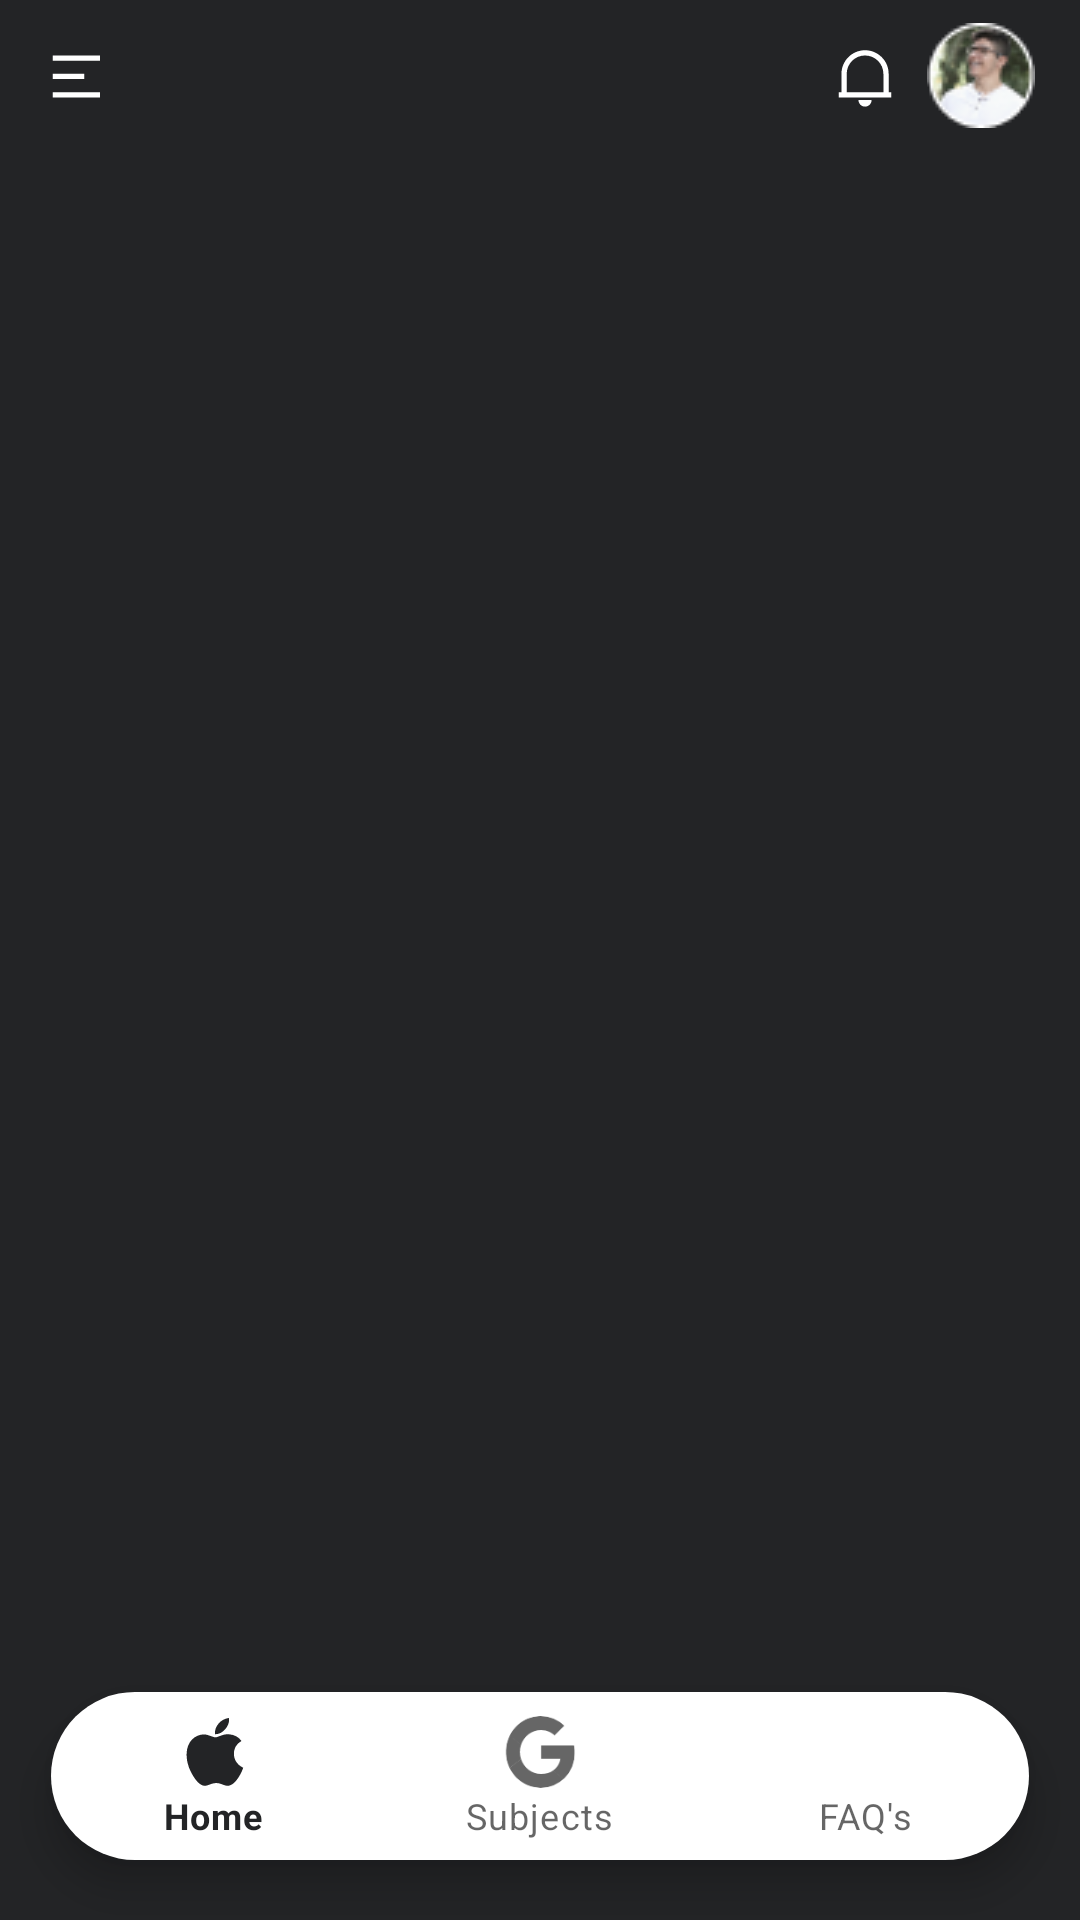

Where to tap for icons on this 1080*1920 app screen, as [x,y]:
userimage: [981,75]
